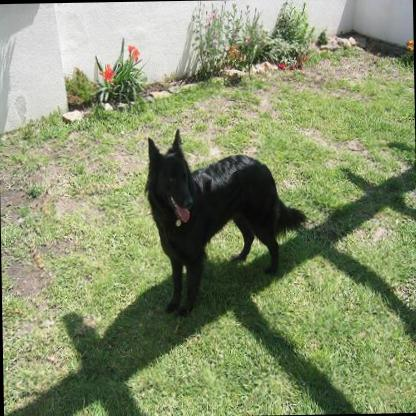groenendael: (140, 124, 308, 310)
